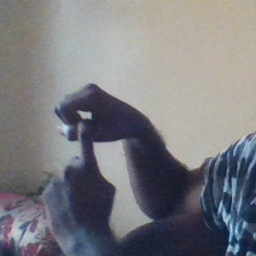Q: (33, 83, 135, 220)
